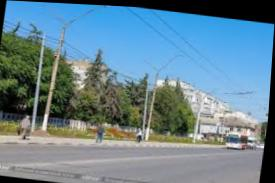Animal: (25, 1, 94, 141), (136, 46, 182, 144)
